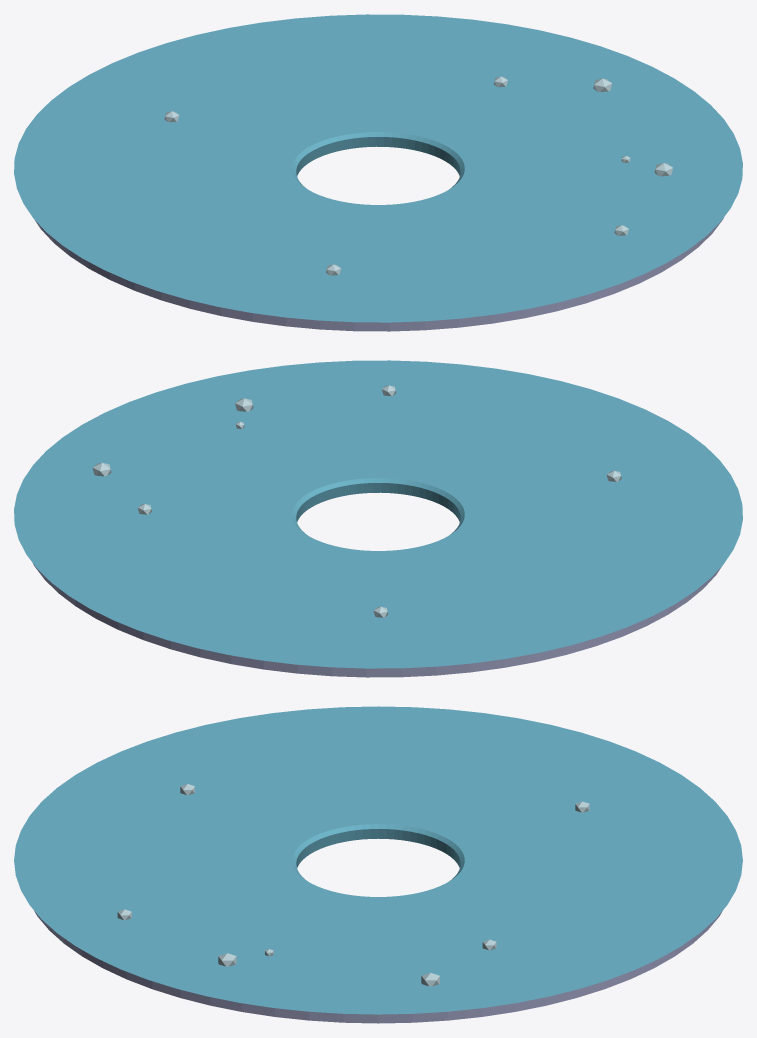
Rendered from goo_jar_deck_2@crystal.fbx.
3 views of the same model, one above another, from view 1: azimuth 30°, elevation 25°; view 2: azimuth 150°, elevation 25°; view 3: azimuth 270°, elevation 25° (orthographic).
Visible parts, largest first — view 1: goo_jar_deck_2; view 2: goo_jar_deck_2; view 3: goo_jar_deck_2.
Part boxes in pixels (bbox=[...]): goo_jar_deck_2: bbox=[14, 14, 742, 331]; goo_jar_deck_2: bbox=[14, 360, 742, 677]; goo_jar_deck_2: bbox=[14, 706, 742, 1023].
Size of the model in its own units: 53.2 by 1.84 by 53.2.
